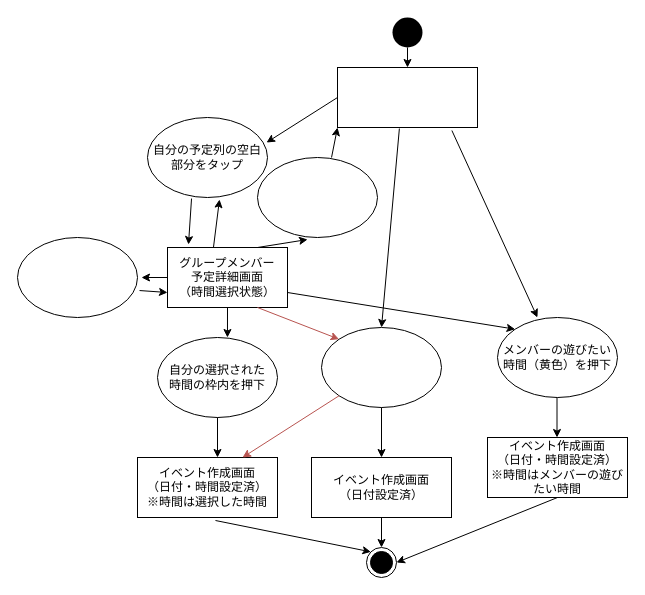
Some shapes in this 645 by 595 pixel diagram are drawn without their labels. The shapes that lost their labels are listed below. From the top down, each one's centre as x and y in pixels, then its label:
(x=407, y=97): グループメンバー 予定詳細画面 （時間選択無し状態）
(x=317, y=197): 戻るボタンを押下
(x=77, y=277): 選択されている時間を調整する
(x=381, y=367): 画面右下 プラスボタンを押下
